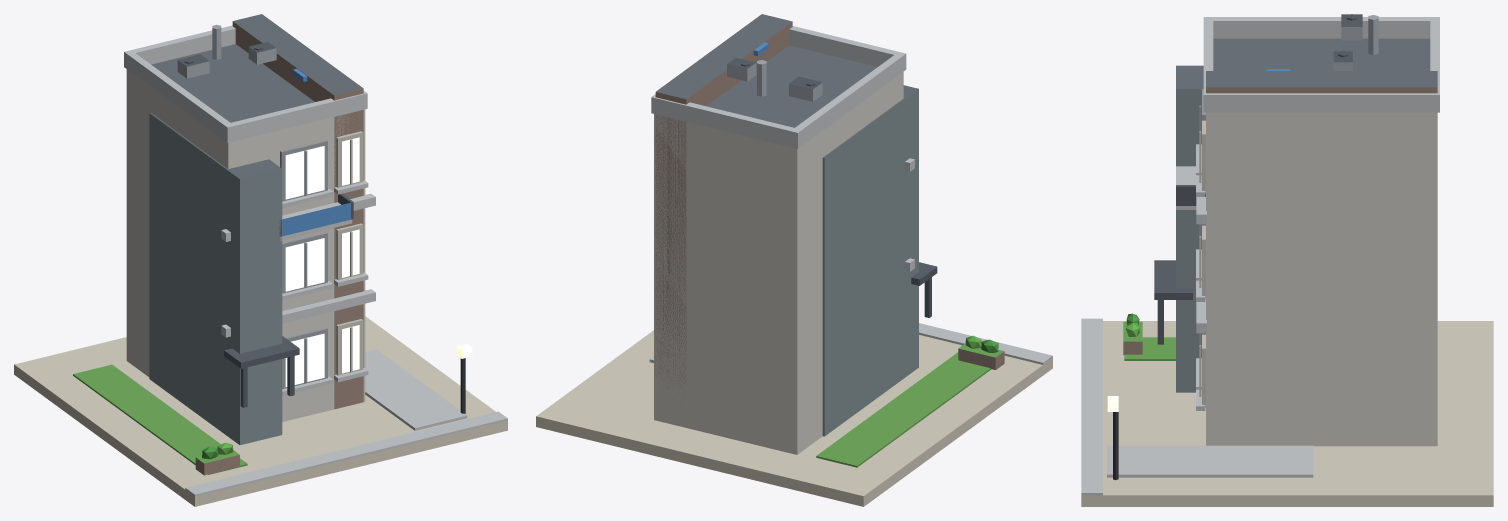
3 views of the same model, side by side, from view 1: azimuth 30°, elevation 25°; view 2: azimuth 150°, elevation 25°; view 3: azimuth 270°, elevation 25° (orthographic). The views are drawn at different scales.
Visible parts, largest first — view 1: b03_v2; view 2: b03_v2; view 3: b03_v2.
Part boxes in pixels (box(x1,y1,x2,y2)): b03_v2: box(14, 14, 507, 506); b03_v2: box(536, 14, 1052, 506); b03_v2: box(1081, 14, 1493, 506).
Size of the model in its own units: 0.96 by 1.02 by 0.96.
